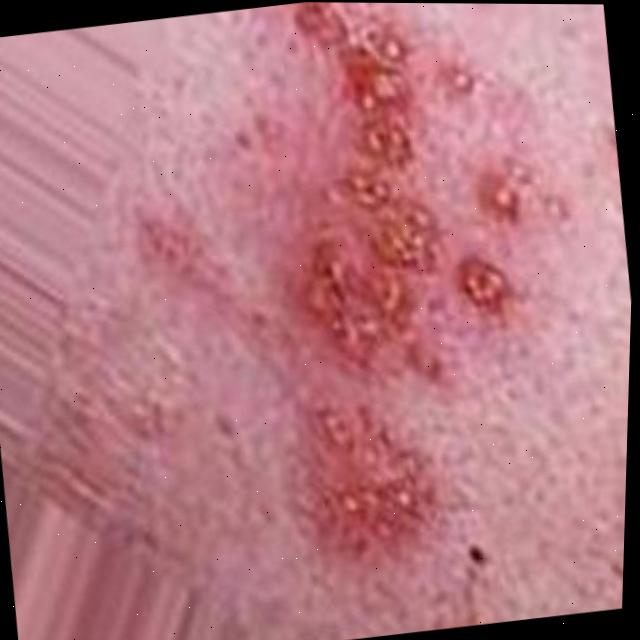Shingles: (238, 2, 574, 558)
